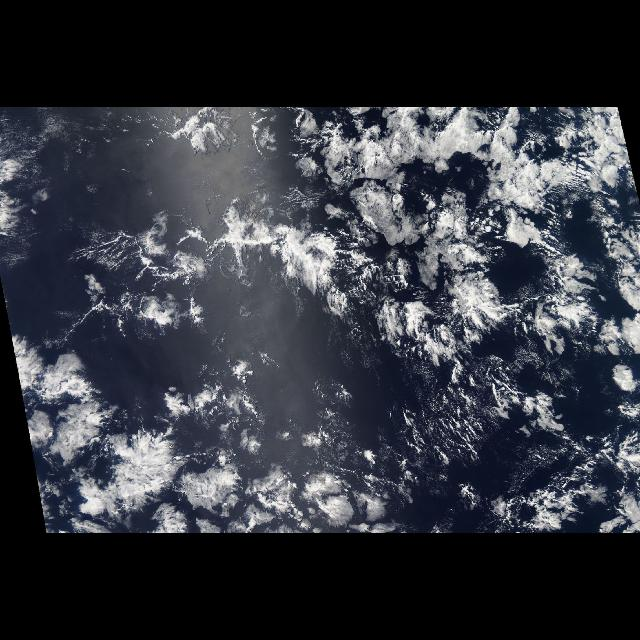Flower: (8, 107, 640, 533)
